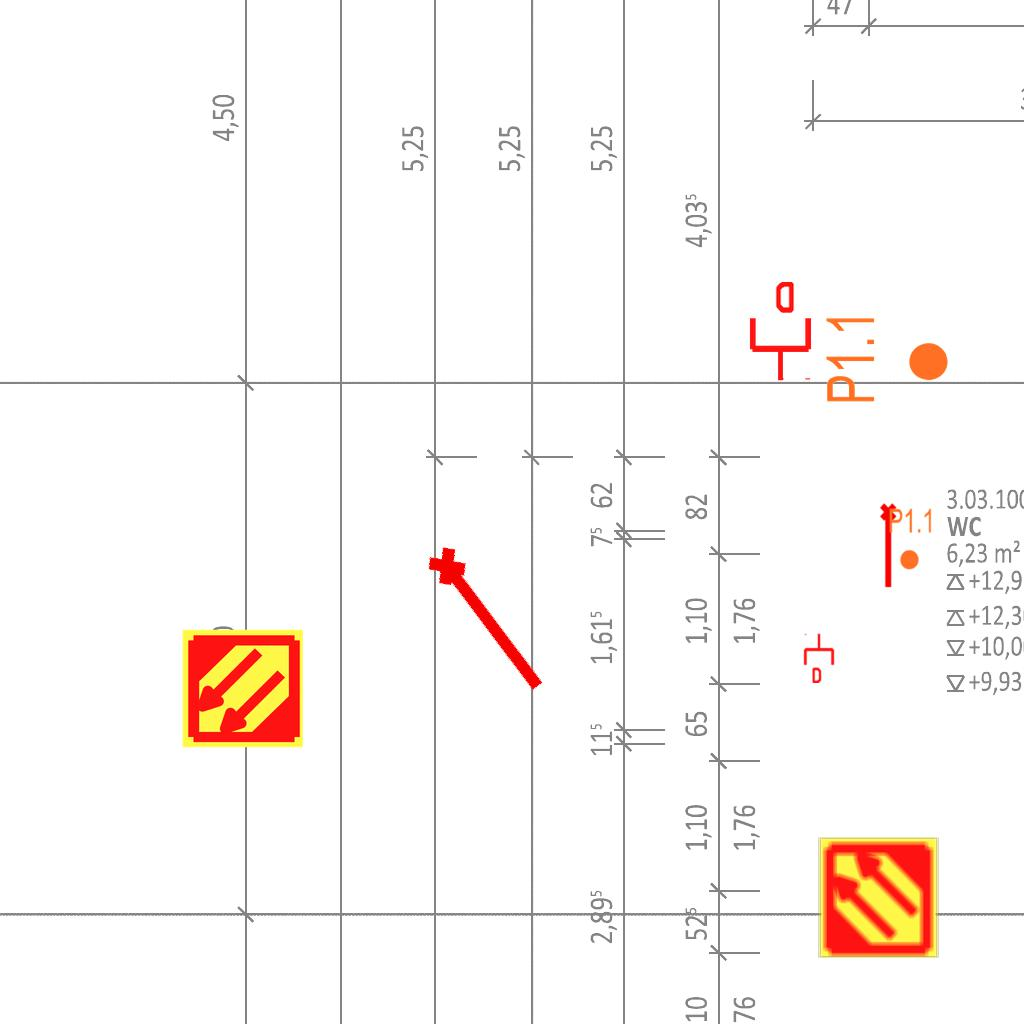ASR_Ansaugoeffnung: (418, 534, 562, 704), (878, 502, 901, 590)
ASR_Ansaugrauchmelder: (180, 626, 305, 751), (816, 835, 941, 960)
Datenanschluss_einfach: (746, 282, 815, 382), (802, 633, 836, 683)
Downlight_LED_Einbauleuchten_Flur: (823, 312, 951, 405), (888, 507, 934, 571)
